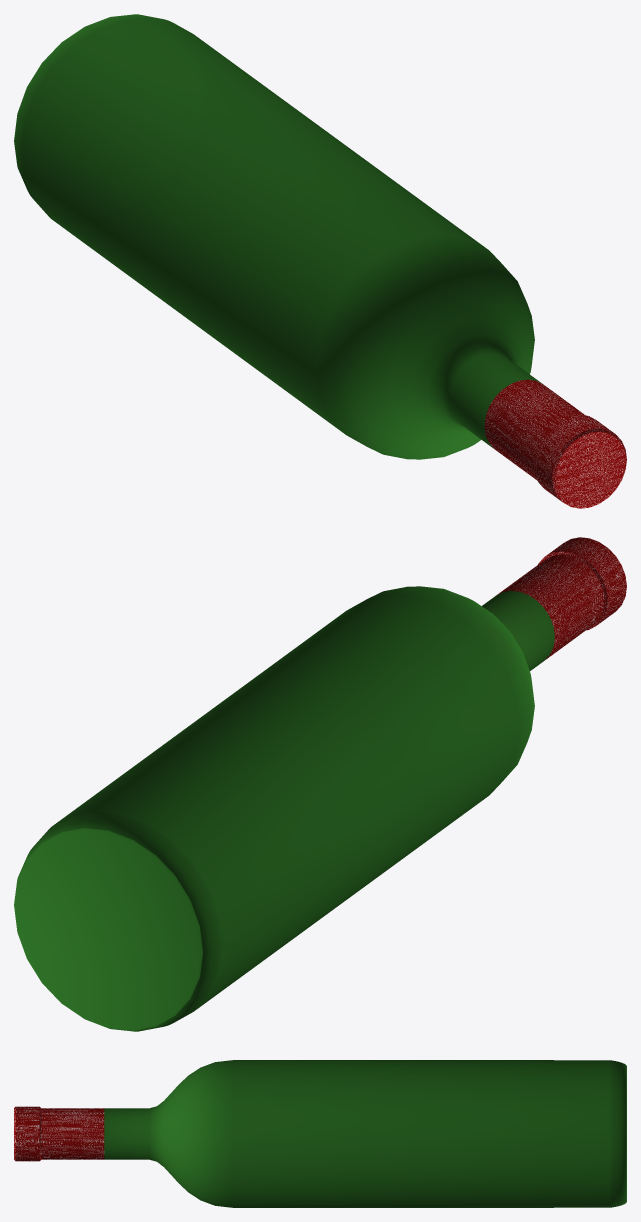
Rendered from model_align.obj.
3 views of the same model, one above another, from view 1: azimuth 30°, elevation 25°; view 2: azimuth 150°, elevation 25°; view 3: azimuth 270°, elevation 25° (orthographic). The views are drawn at different scales.
Parts seen in each view (by area): view 1: mesh1_mesh1-geometry; view 2: mesh1_mesh1-geometry; view 3: mesh1_mesh1-geometry.
Part boxes in pixels (bbox=[...]): mesh1_mesh1-geometry: bbox=[14, 14, 626, 508]; mesh1_mesh1-geometry: bbox=[14, 537, 626, 1031]; mesh1_mesh1-geometry: bbox=[14, 1060, 626, 1207].
Bounding box in the file's own units: 0.0702 × 0.0702 × 0.29.
